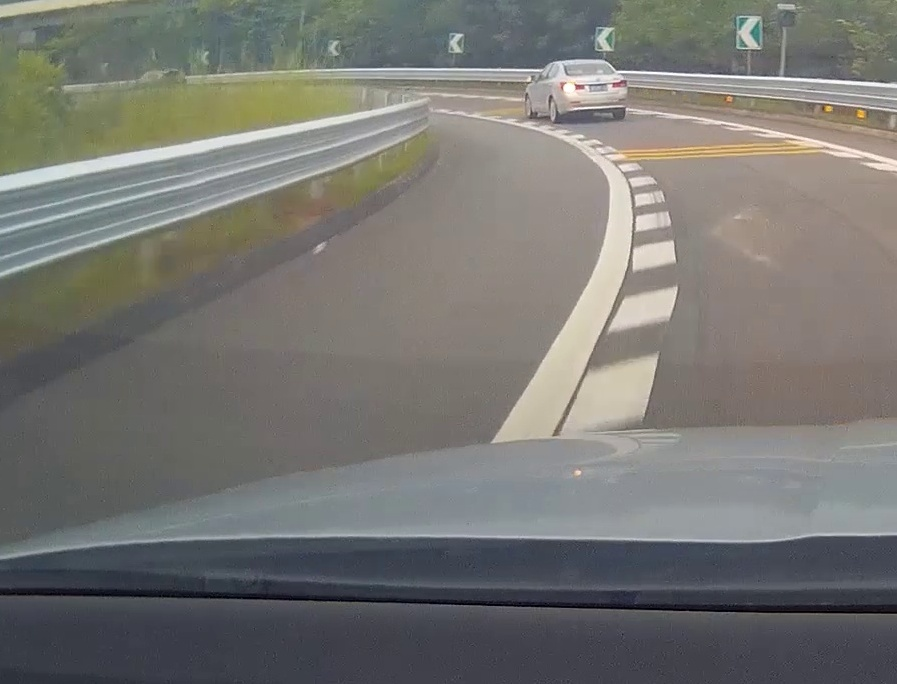L_light: (560, 83, 584, 92)
R_light: (612, 79, 627, 88)
T_light: (585, 71, 596, 75)
day-left: (559, 59, 627, 123)
